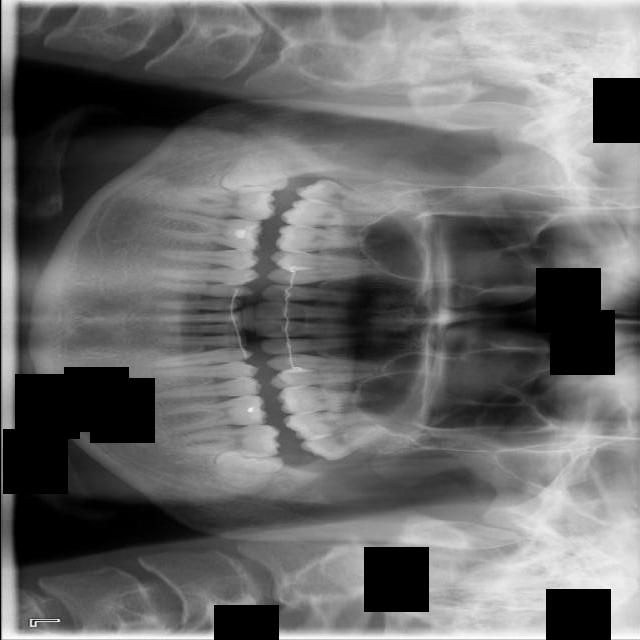3M ESPE Implant: (293, 175, 386, 213)
52: (225, 392, 268, 430), (237, 184, 277, 222), (222, 216, 263, 253)
73: (40, 596, 54, 604)
BioHorizons Implant: (281, 410, 392, 440)
BioLife Implant: (297, 415, 392, 469)
Biomet 3i Implant: (210, 444, 285, 499)
Blue Sky Bio Implant: (180, 424, 280, 458)
Caries: (279, 197, 388, 229)
Implant: (182, 185, 275, 221)
Keystone Dental Implant: (217, 148, 289, 197)
